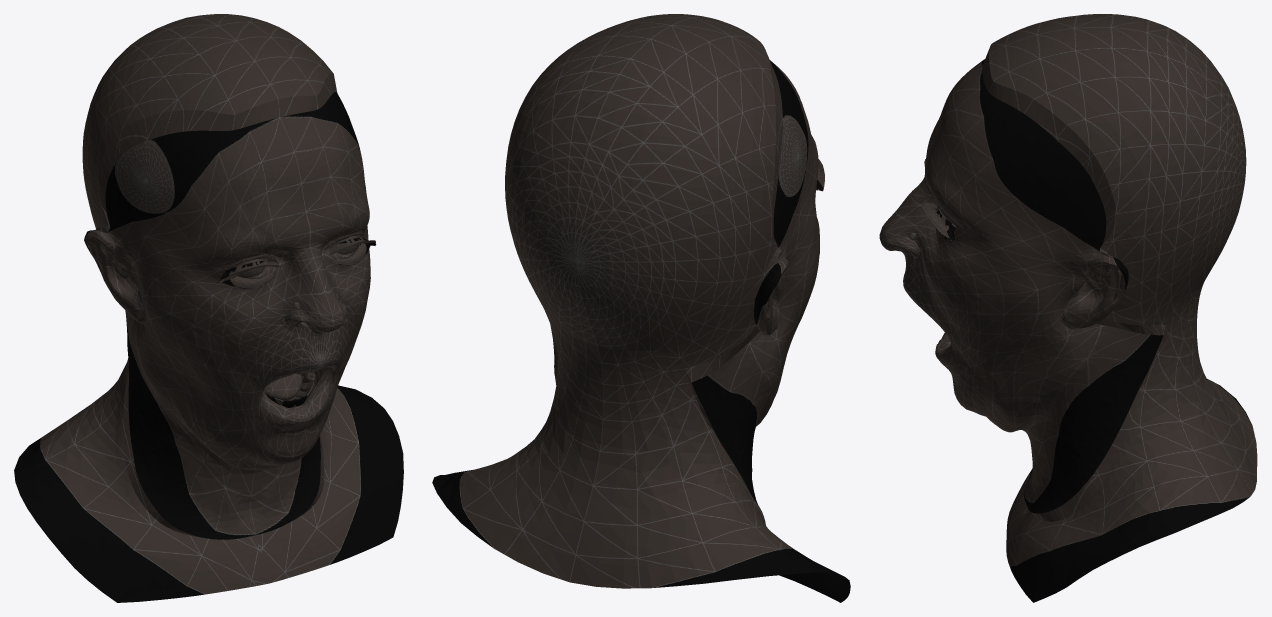
Rendered from ict_mediapipe_M_ScleraLeft_textured.obj.
3 views of the same model, side by side, from view 1: azimuth 30°, elevation 25°; view 2: azimuth 150°, elevation 25°; view 3: azimuth 270°, elevation 25° (orthographic). The views are drawn at different scales.
Bounding box in the file's own units: 1.02 × 1.38 × 0.9253.
1 material, 1 textured.
